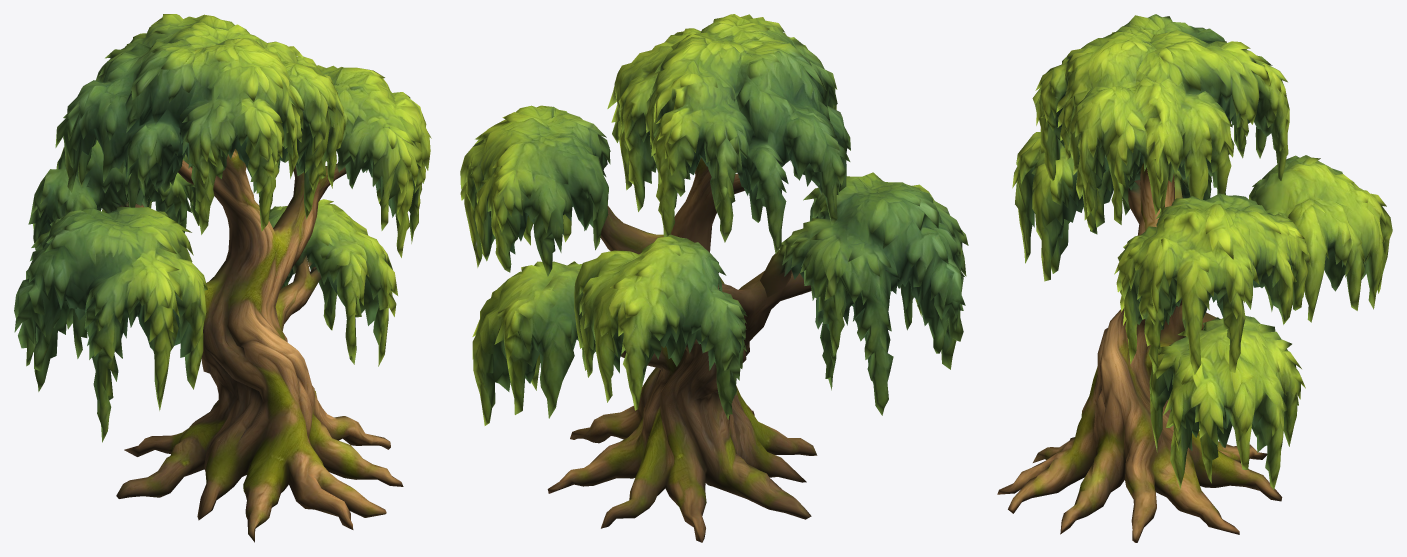
File: ecos_salgueiro.glb
The picture shows the model from 3 angles, left to right: view 1: azimuth 30°, elevation 25°; view 2: azimuth 150°, elevation 25°; view 3: azimuth 270°, elevation 25°; orthographic projection. The views are drawn at different scales.
Parts seen in each view (by area): view 1: tripo_part_0, tripo_part_2, tripo_part_7, tripo_part_5, tripo_part_1, tripo_part_6, tripo_part_3, tripo_part_4, tripo_part_8; view 2: tripo_part_0, tripo_part_2, tripo_part_3, tripo_part_1, tripo_part_5, tripo_part_8, tripo_part_6, tripo_part_4, tripo_part_7, tripo_part_9; view 3: tripo_part_0, tripo_part_1, tripo_part_6, tripo_part_4, tripo_part_3, tripo_part_8, tripo_part_7, tripo_part_2, tripo_part_5.
Part boxes in pixels (x1,y1,x2,y2): tripo_part_0: [116, 149, 403, 542]; tripo_part_2: [14, 206, 207, 442]; tripo_part_7: [179, 38, 306, 234]; tripo_part_5: [55, 41, 196, 207]; tripo_part_1: [278, 65, 431, 257]; tripo_part_6: [269, 199, 397, 366]; tripo_part_3: [28, 140, 199, 250]; tripo_part_4: [264, 41, 344, 219]; tripo_part_8: [96, 14, 266, 81]; tripo_part_0: [547, 157, 817, 542]; tripo_part_2: [760, 172, 968, 415]; tripo_part_3: [574, 234, 747, 419]; tripo_part_1: [460, 105, 610, 276]; tripo_part_5: [730, 41, 850, 254]; tripo_part_8: [645, 32, 753, 236]; tripo_part_6: [472, 261, 595, 425]; tripo_part_4: [607, 28, 700, 211]; tripo_part_7: [700, 14, 837, 109]; tripo_part_9: [715, 175, 735, 242]; tripo_part_0: [997, 163, 1282, 542]; tripo_part_1: [1114, 193, 1310, 374]; tripo_part_6: [1149, 316, 1305, 489]; tripo_part_4: [1068, 70, 1234, 231]; tripo_part_3: [1249, 155, 1392, 322]; tripo_part_8: [1137, 30, 1289, 180]; tripo_part_7: [1032, 26, 1156, 181]; tripo_part_2: [1012, 132, 1212, 281]; tripo_part_5: [1123, 14, 1237, 146].
Bounding box in the file's own units: 0.984 × 0.9508 × 0.776.
10 materials, 10 textured.
